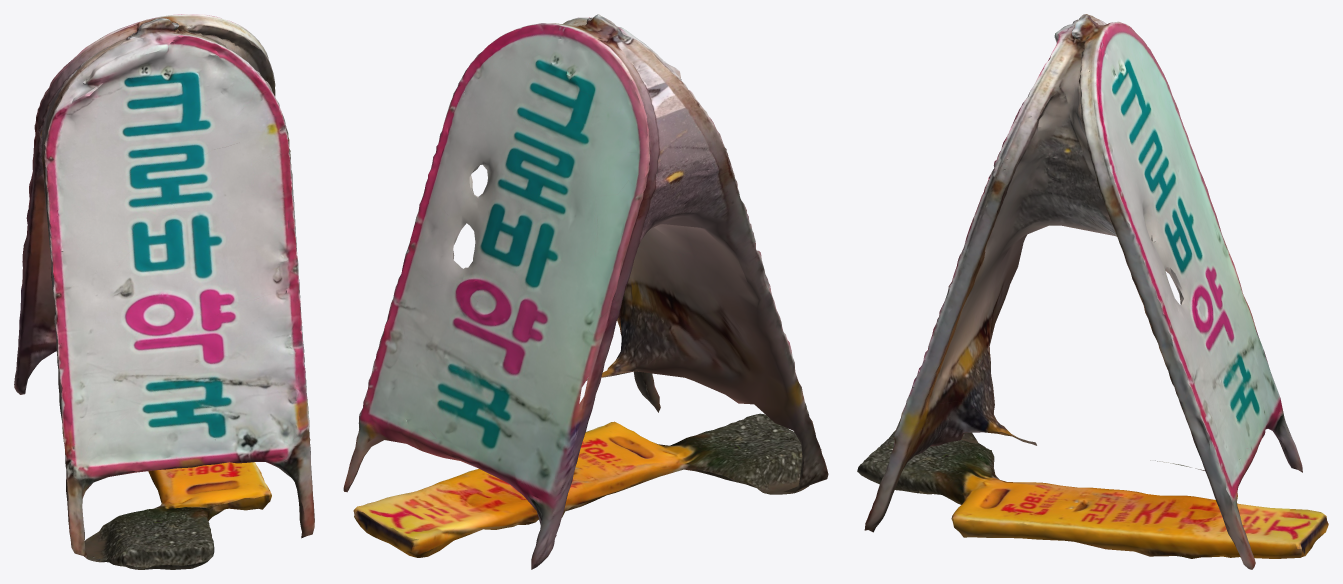
File: sign4.gltf
3 views of the same model, side by side, from view 1: azimuth 30°, elevation 25°; view 2: azimuth 150°, elevation 25°; view 3: azimuth 270°, elevation 25° (orthographic). The views are drawn at different scales.
Parts seen in each view (by area): view 1: Default; view 2: Default; view 3: Default.
Boxes of the visible parts, bbox=[...] form: Default: bbox=[14, 14, 314, 569]; Default: bbox=[343, 14, 828, 569]; Default: bbox=[857, 14, 1328, 569].
Bounding box in the file's own units: 0.00225 × 0.00316 × 0.00269.
1 material, 1 textured.
